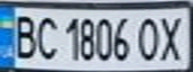0: (93, 15, 115, 62)
1: (60, 14, 81, 61)
6: (112, 15, 136, 63)
8: (78, 14, 96, 62)
B: (9, 11, 39, 61)
C: (33, 12, 60, 61)
O: (133, 14, 163, 63)
X: (154, 11, 190, 62)
